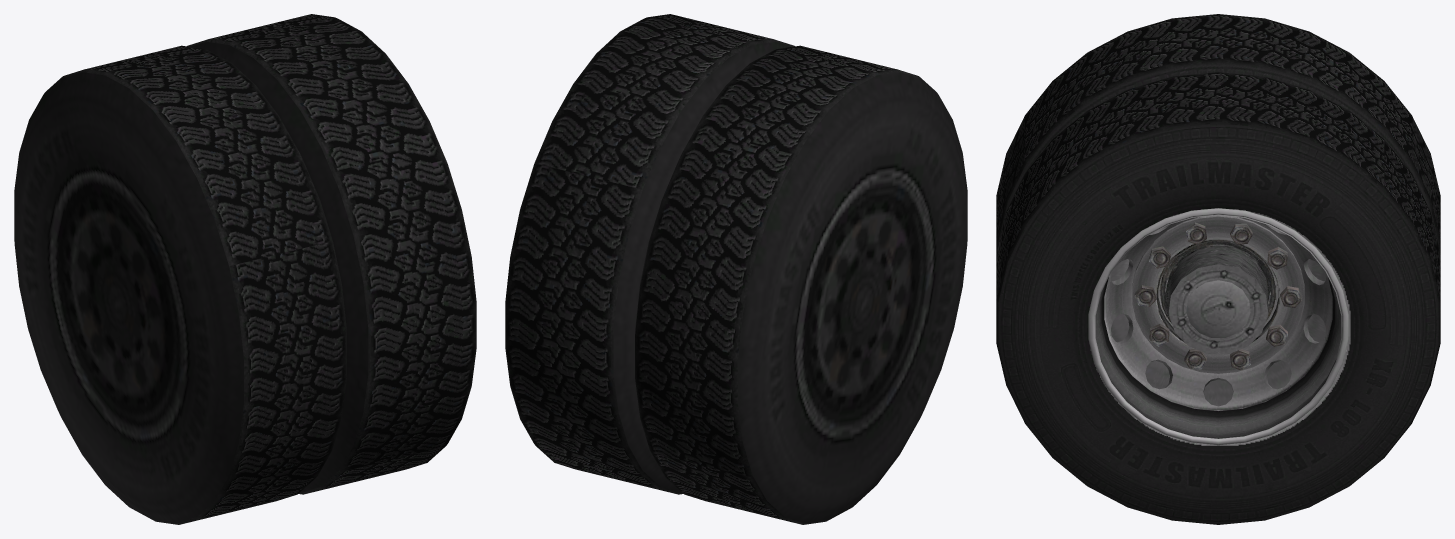
File: RearTire.fbx
3 views of the same model, side by side, from view 1: azimuth 30°, elevation 25°; view 2: azimuth 150°, elevation 25°; view 3: azimuth 270°, elevation 25° (orthographic). The views are drawn at different scales.
Visible parts, largest first — view 1: Model1.0; view 2: Model1.0; view 3: Model1.0, Model1.1.
Boxes of the visible parts, bbox=[...] form: Model1.0: bbox=[14, 14, 476, 524]; Model1.0: bbox=[505, 14, 967, 524]; Model1.0: bbox=[996, 14, 1440, 524]; Model1.1: bbox=[1088, 208, 1348, 445].
Bounding box in the file's own units: 64.47 × 103 × 102.
